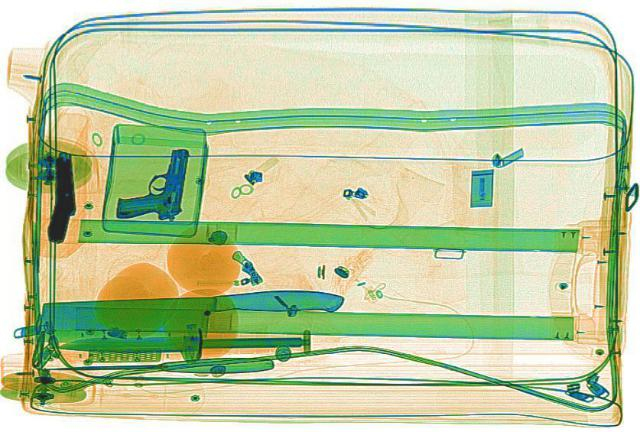Gun: (114, 143, 188, 219), (45, 151, 79, 241)
Knife: (35, 286, 343, 339), (38, 353, 272, 374), (59, 332, 301, 351)
